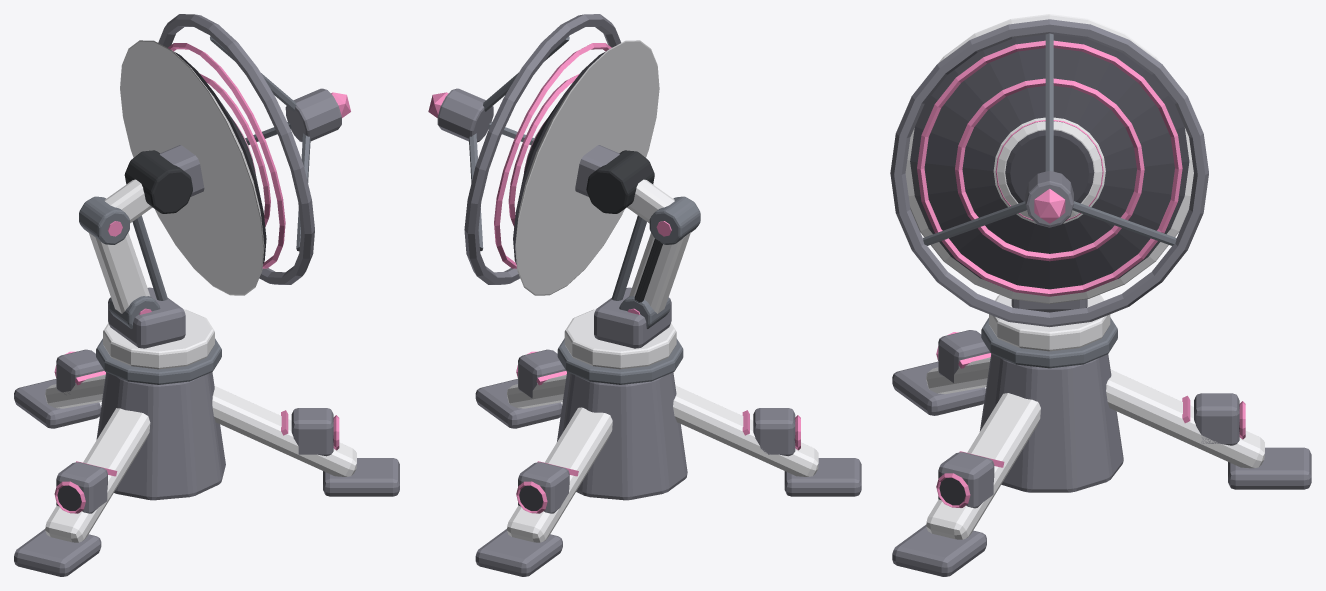
The model's file is torreta_sonica.obj.
3 renders of one model, left to right at view 1: azimuth 30°, elevation 25°; view 2: azimuth 150°, elevation 25°; view 3: azimuth 270°, elevation 25°, orthographic. The views are drawn at different scales.
Parts seen in each view (by area): view 1: Base, Barrel, Pivot; view 2: Base, Barrel, Pivot; view 3: Barrel, Base, Pivot.
Boxes of the visible parts, x1=… form: Base: x1=14, y1=338, x2=399, y2=576; Barrel: x1=120, y1=14, x2=350, y2=295; Pivot: x1=79, y1=179, x2=214, y2=369; Base: x1=475, y1=338, x2=861, y2=576; Barrel: x1=428, y1=14, x2=659, y2=295; Pivot: x1=564, y1=179, x2=700, y2=369; Barrel: x1=890, y1=14, x2=1208, y2=327; Base: x1=892, y1=317, x2=1311, y2=576; Pivot: x1=989, y1=295, x2=1110, y2=351.
Bounding box in the file's own units: 3.17 × 3.55 × 2.77.
1 material, 1 textured.
